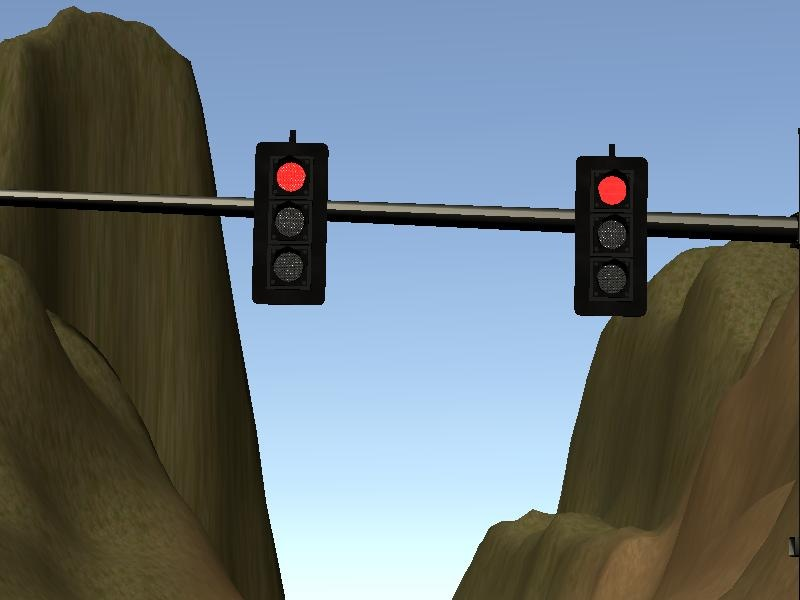RED: (251, 142, 329, 307), (575, 155, 649, 318)
